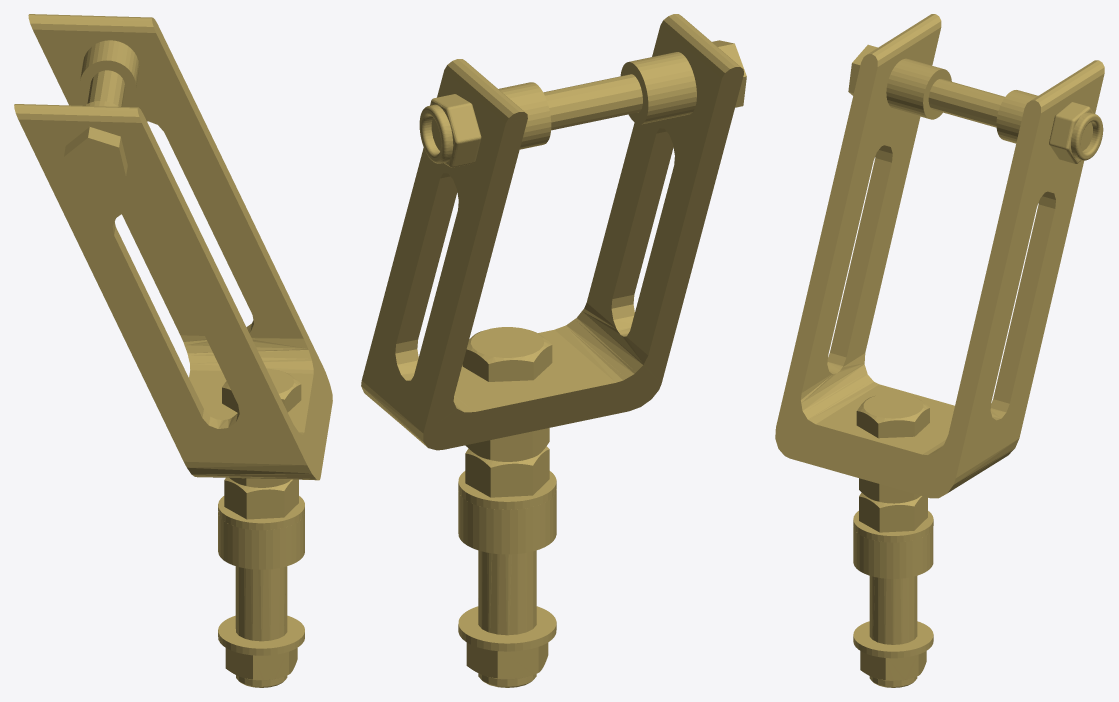
File: f_wheel_base.dae
3 renders of one model, left to right at view 1: azimuth 30°, elevation 25°; view 2: azimuth 150°, elevation 25°; view 3: azimuth 270°, elevation 25°, orthographic. The views are drawn at different scales.
Visible parts, largest first — view 1: Back; view 2: Back; view 3: Back.
Boxes of the visible parts, x1,y1,x2,y2 form: Back: (14, 14, 332, 687); Back: (361, 14, 746, 687); Back: (775, 14, 1104, 687).
Bounding box in the file's own units: 0.0863 × 0.0821 × 0.155.
